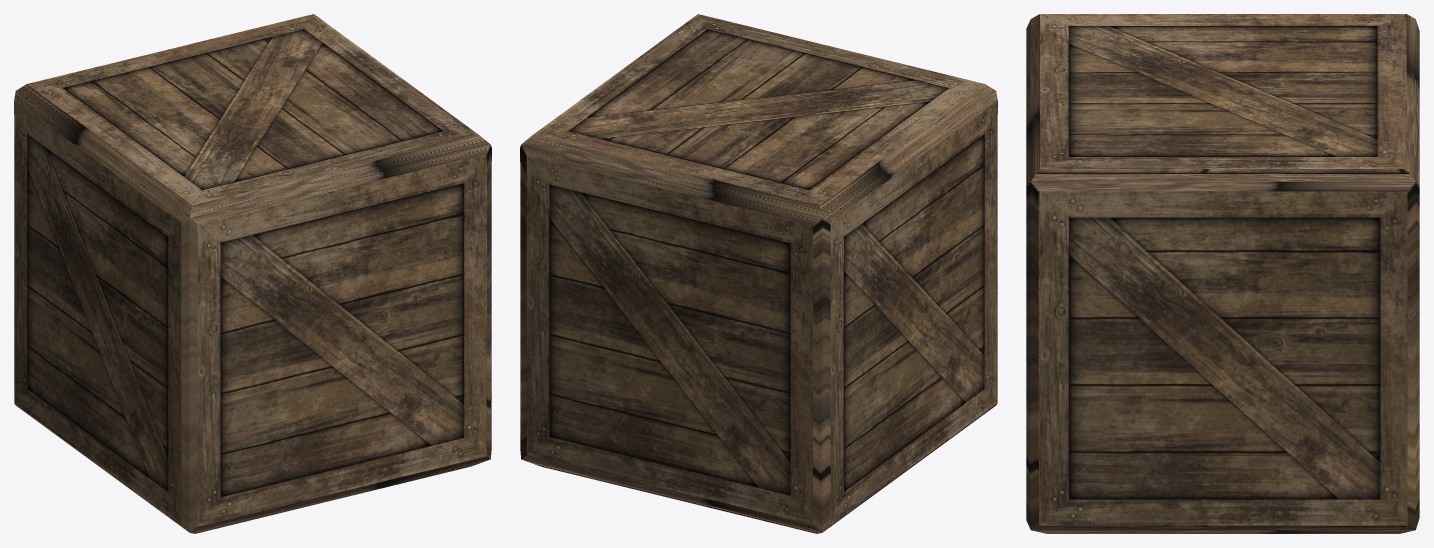
3 renders of one model, left to right at view 1: azimuth 30°, elevation 25°; view 2: azimuth 150°, elevation 25°; view 3: azimuth 270°, elevation 25°, orthographic. The views are drawn at different scales.
Visible parts, largest first — view 1: box; view 2: box; view 3: box.
Boxes of the visible parts, x1=… form: box: x1=14, y1=14, x2=491, y2=533; box: x1=520, y1=14, x2=997, y2=533; box: x1=1026, y1=14, x2=1419, y2=533.
Bounding box in the file's own units: 2.09 × 2.14 × 2.07.
1 material, 1 textured.
